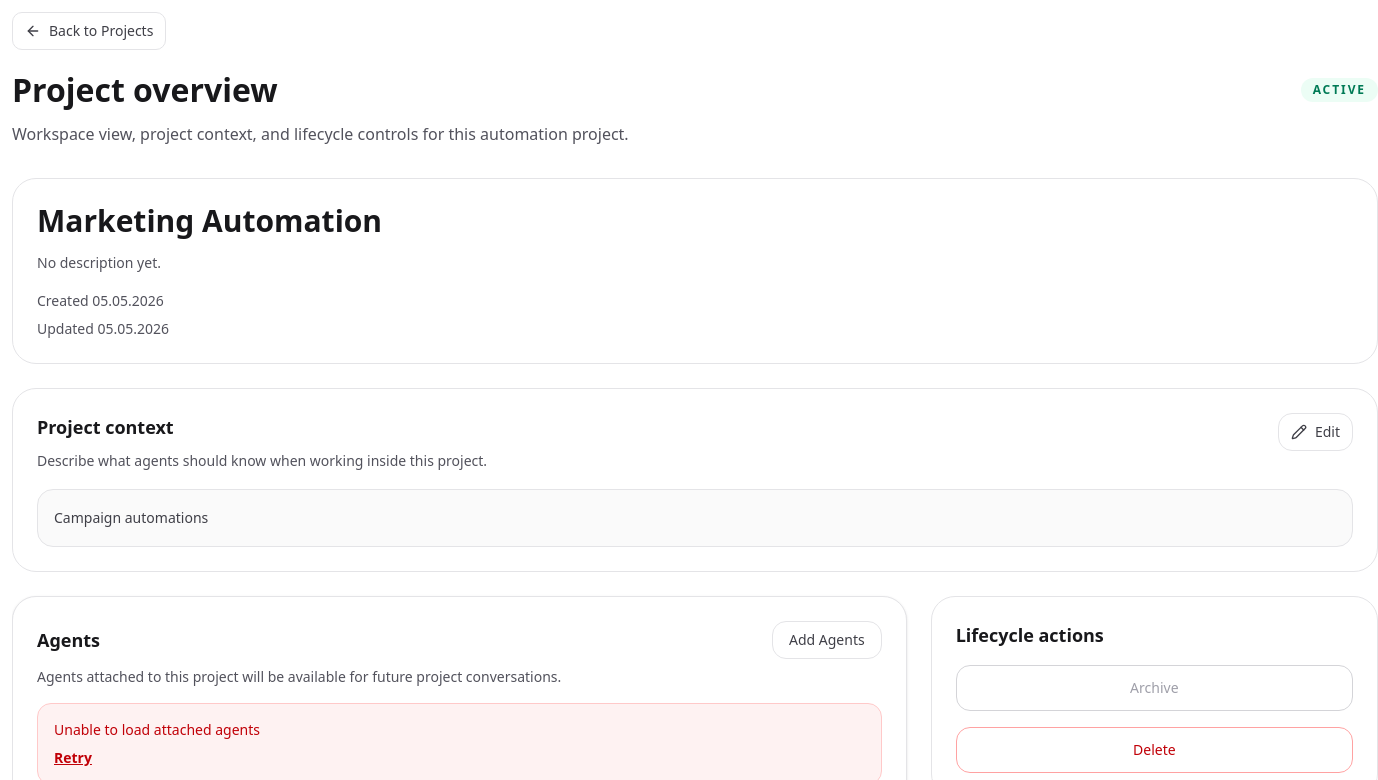
Test: AgentProjectDetailsPage › shows error and retry action when attached agents loading fails
Expected: the text "Unable to load attached agents" is shown, top-left (54, 720), bottom-right (260, 739)
Click the button "Retry": [73, 758] box top-left (54, 748), bottom-right (92, 768)
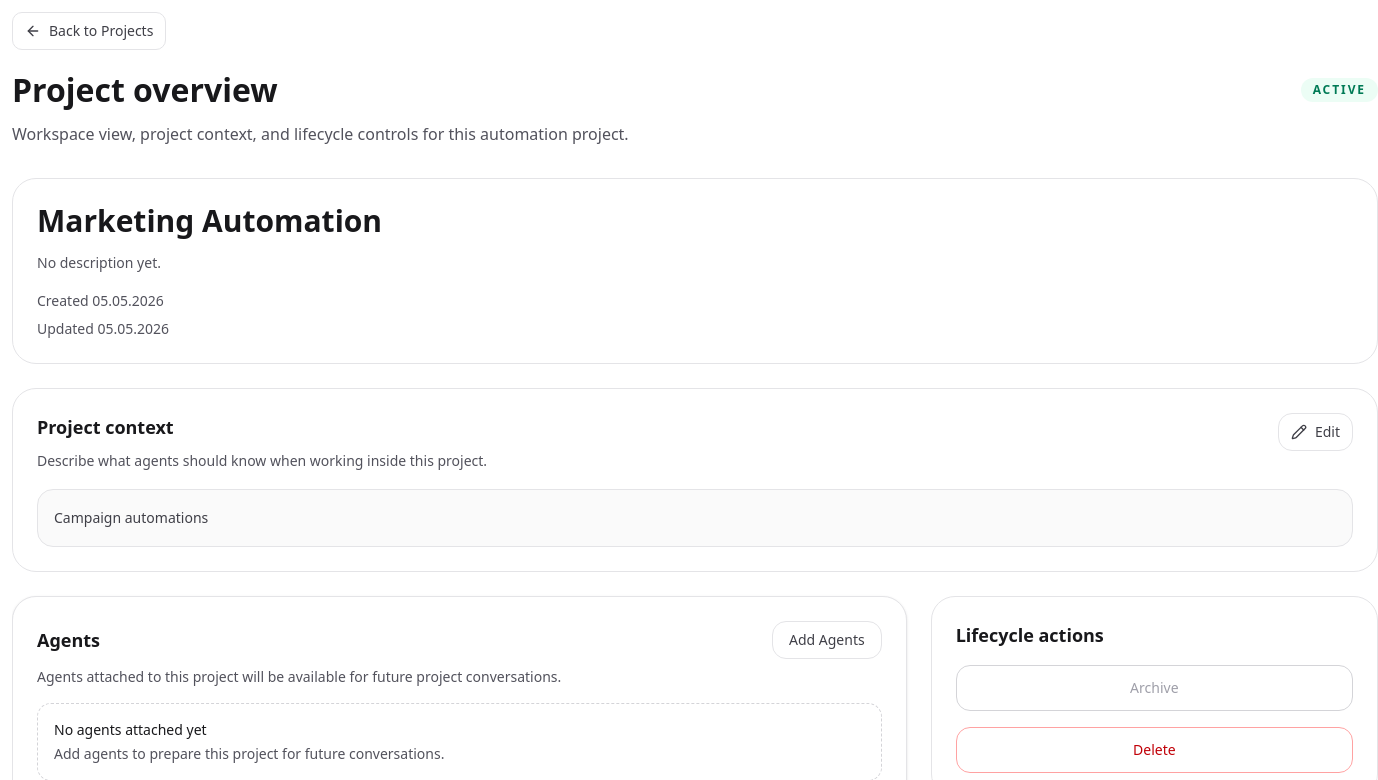
Expected: the text "No agents attached yet" is shown, top-left (54, 720), bottom-right (207, 739)
